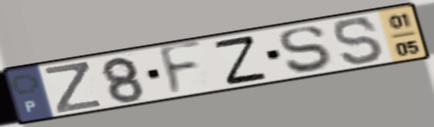8: (98, 54, 146, 105)
F: (157, 38, 206, 100)
S: (276, 24, 333, 76), (331, 15, 387, 67)
Z: (42, 60, 105, 115), (210, 33, 270, 87)
